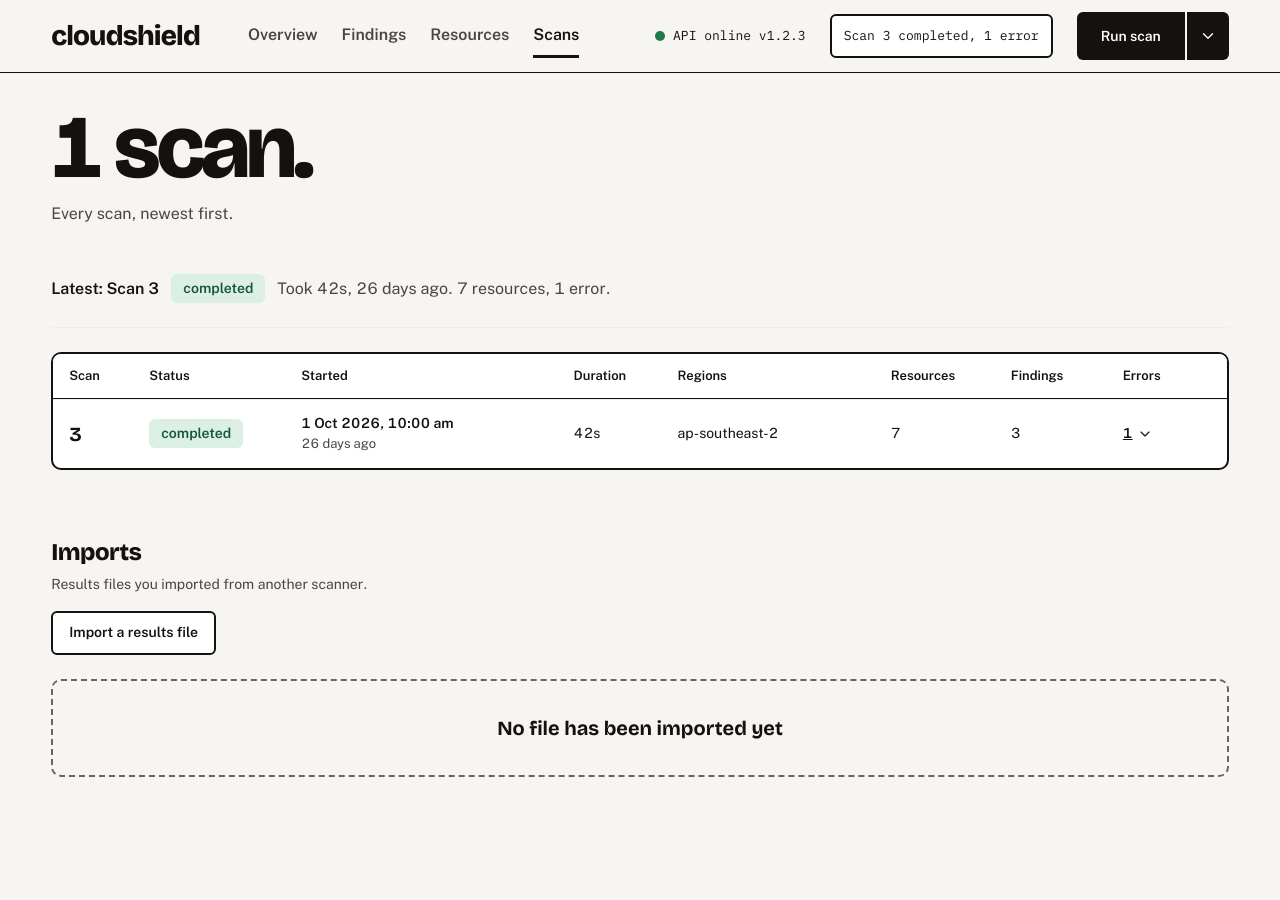
Test: Scans › keeps the scanner errors folded until the error count is clicked, then lists them
Expected: the text "AccessDenied" is not shown
What coordinates should you click on to do the following:
click the button named "Details of scan 3: 1 error"
I would click on:
 (1138, 434)
Its box is top-left (1123, 412), bottom-right (1153, 456).
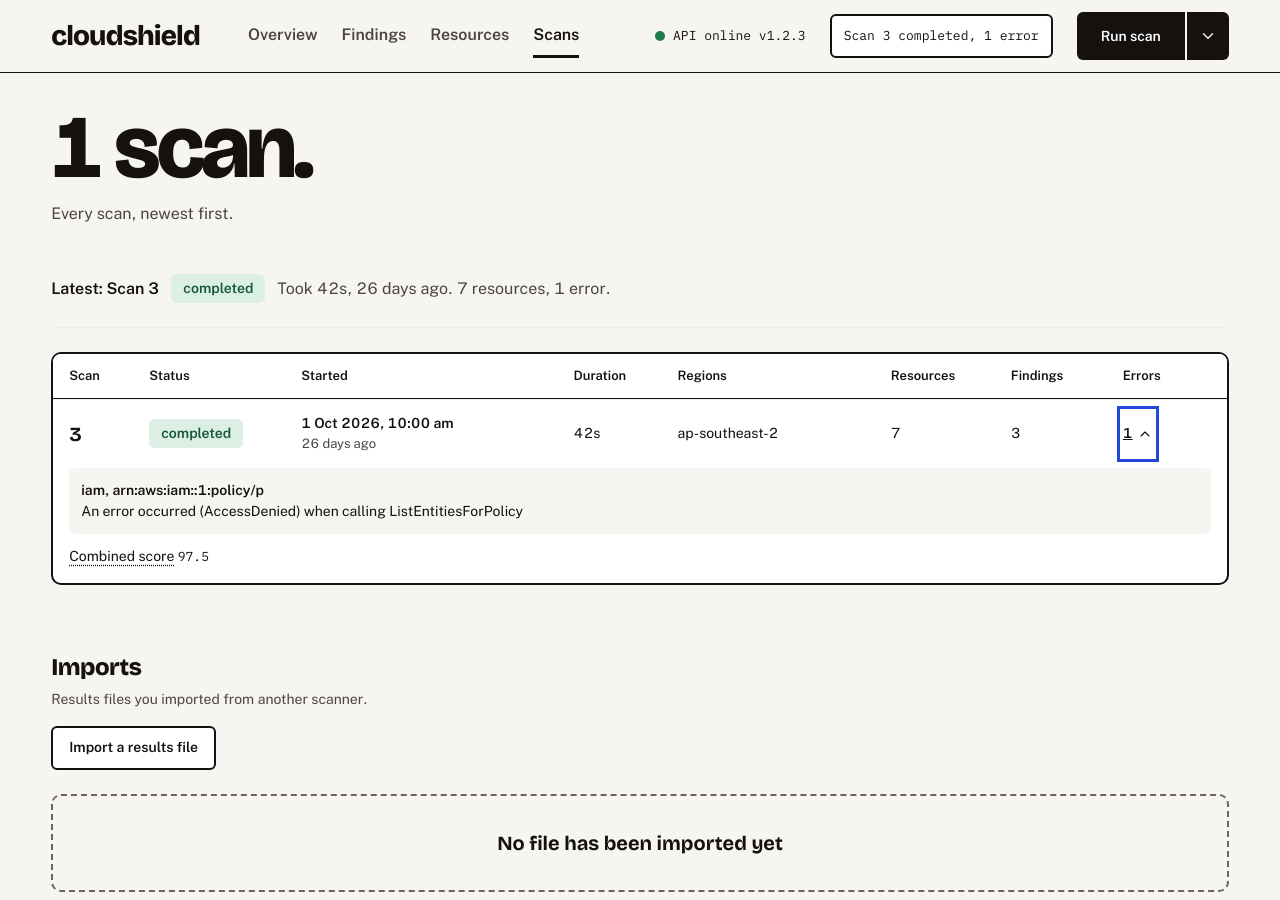
Expected: the button named "Details of scan 3: 1 error" is expanded
Expected: the text "AccessDenied" is shown, top-left (81, 503), bottom-right (523, 519)
Expected: the text "iam, arn:aws:iam::1:policy/p" is shown, top-left (81, 482), bottom-right (264, 498)
What coordinates should you click on to do the following:
click the button named "Details of scan 3: 1 error"
I would click on:
 (1138, 434)
Its box is top-left (1123, 412), bottom-right (1153, 456).
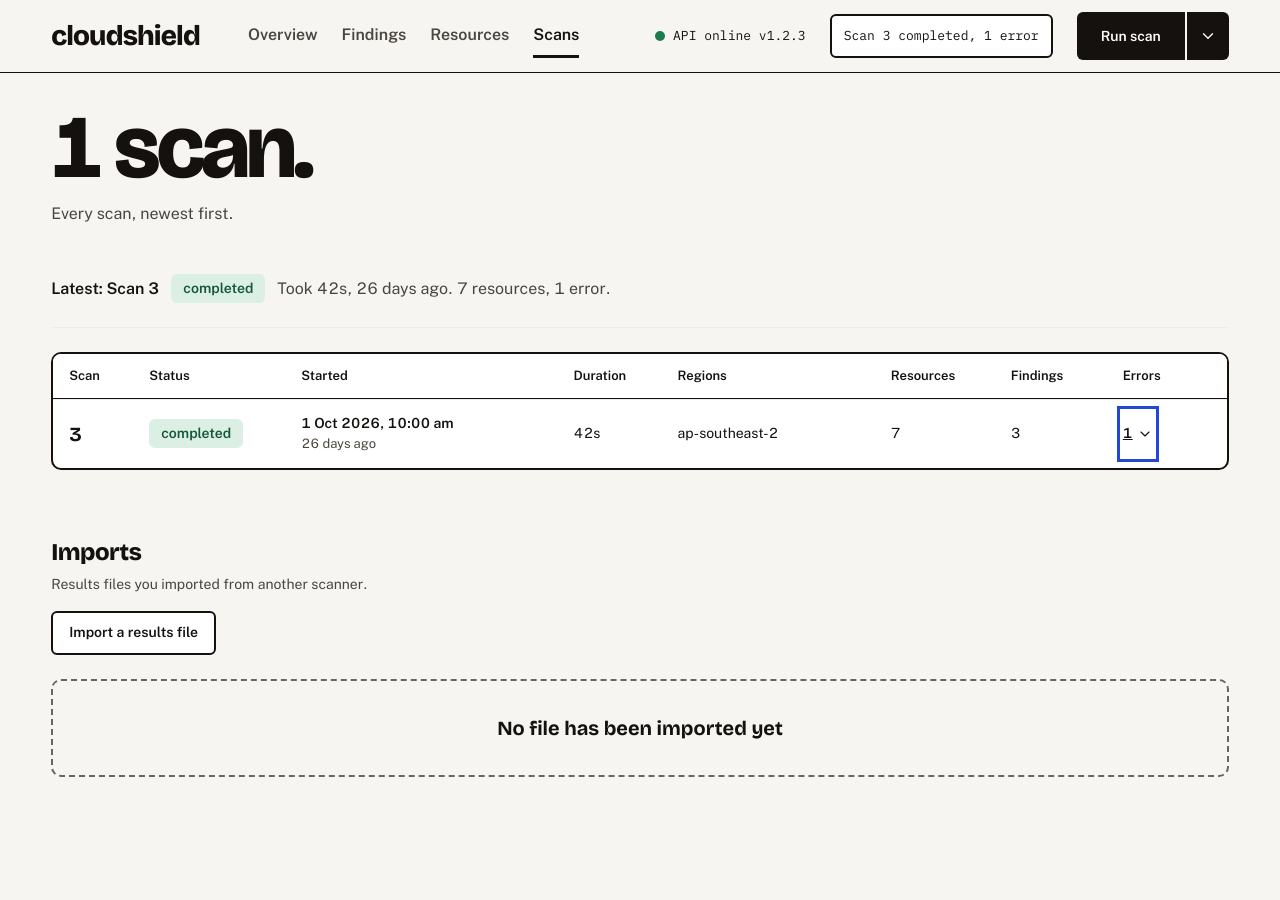
Expected: the text "AccessDenied" is gone
